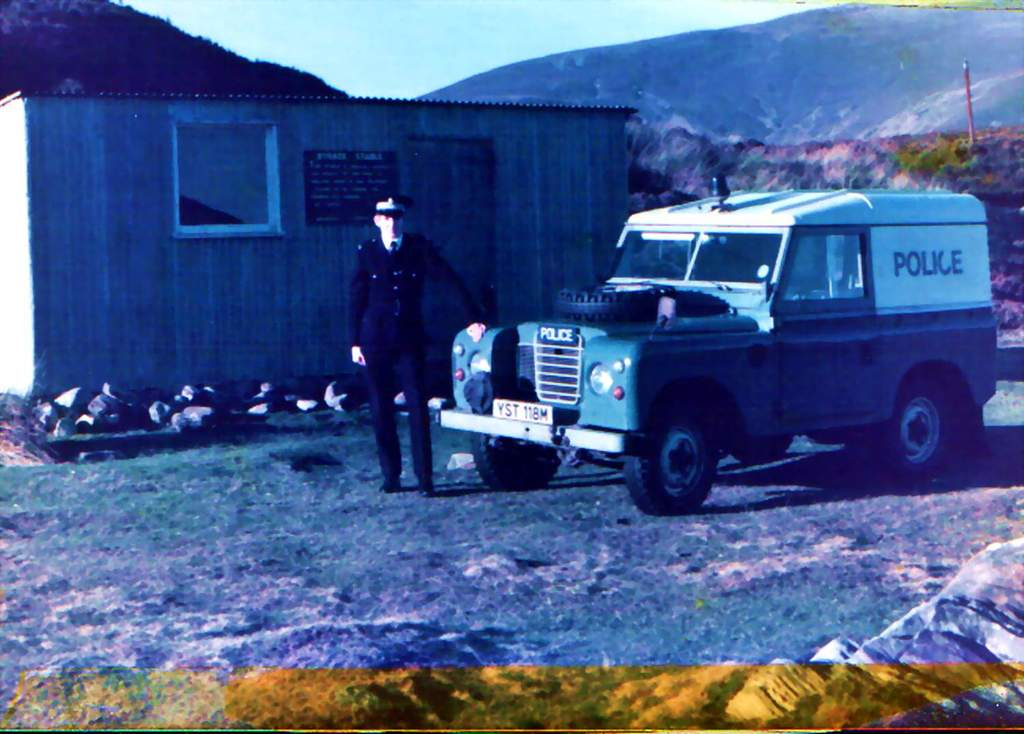Car: (414, 183, 1000, 511)
